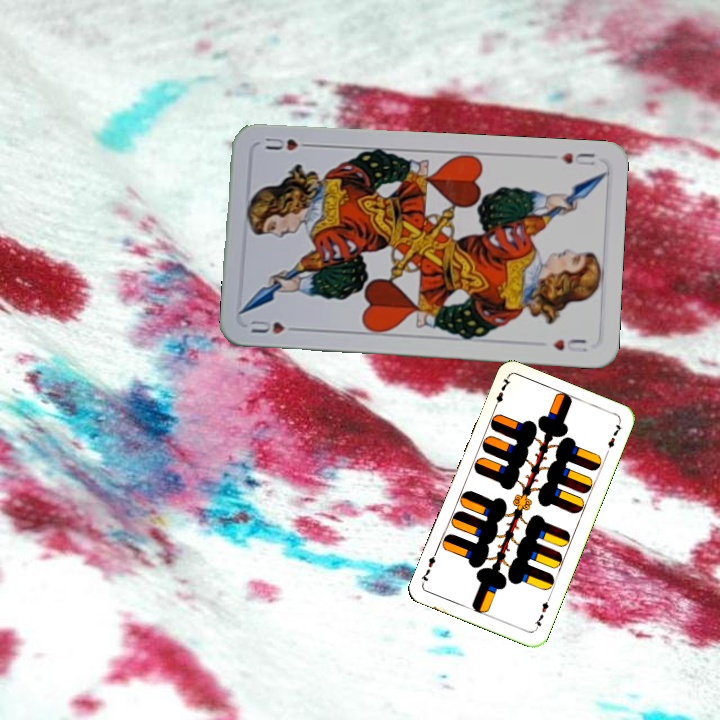E7: (490, 374, 513, 413), (530, 593, 552, 632)
HU: (246, 316, 303, 336), (558, 148, 597, 168)
